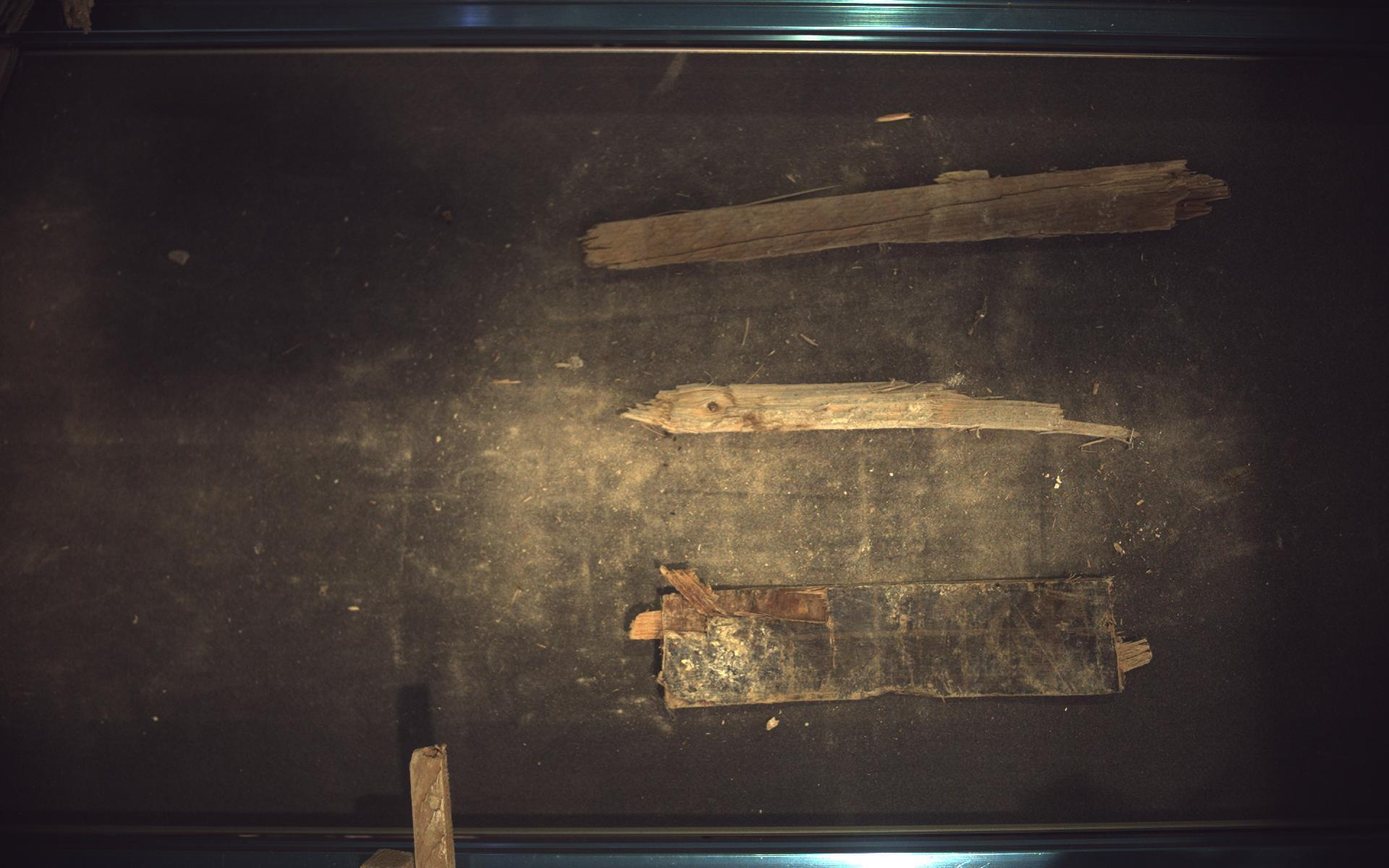wood: (631, 568, 1154, 710), (583, 159, 1232, 269), (623, 380, 1138, 443)
